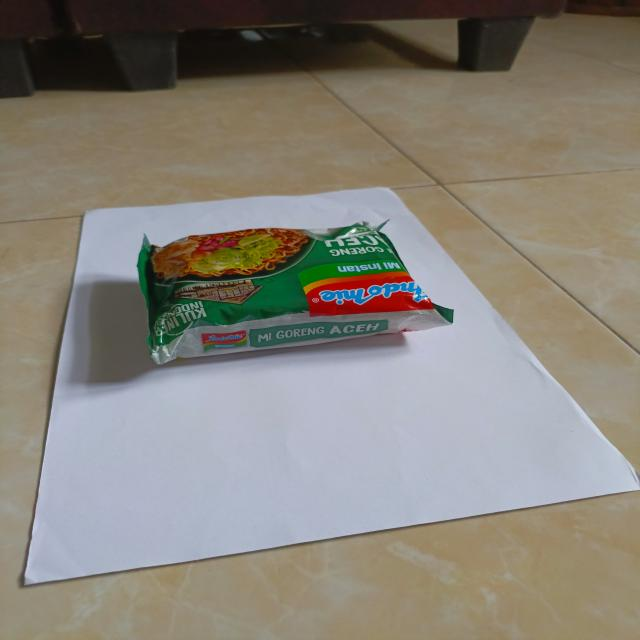gery-salut-coconut: (137, 221, 456, 367)
